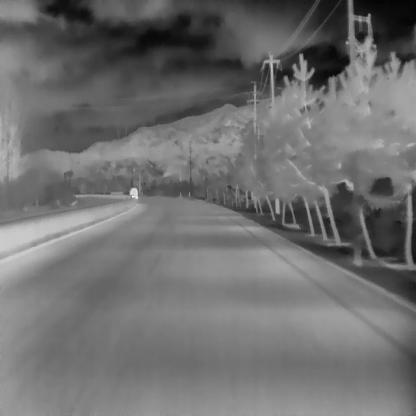car: (128, 186, 137, 198)
